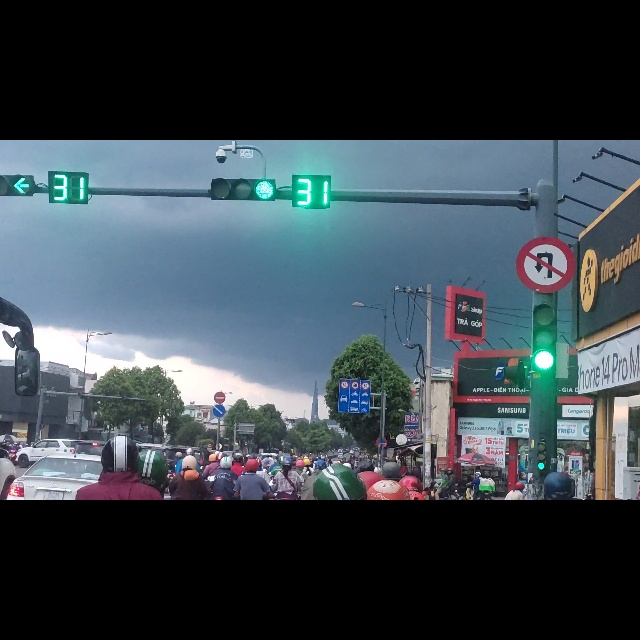bien_chi_dan: (515, 172, 576, 273), (338, 424, 371, 485), (213, 469, 226, 492), (214, 447, 226, 469)
